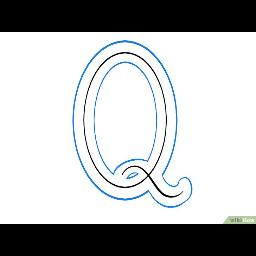q: (70, 38, 196, 210)
